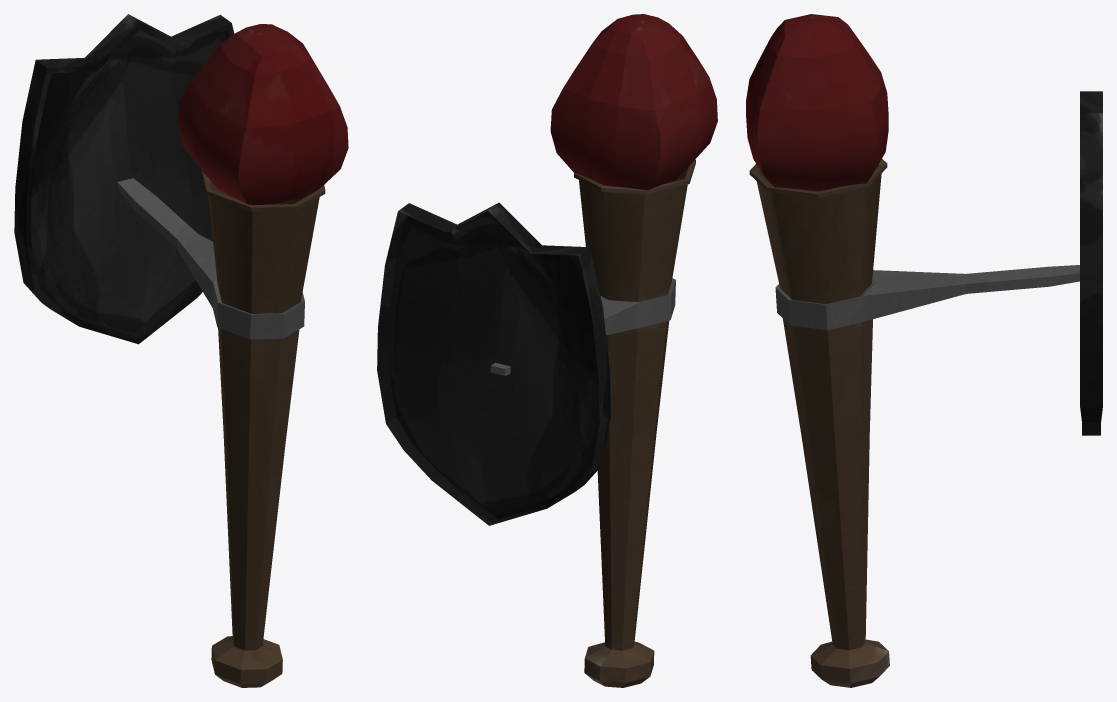
The model's file is Livingroom_lamp.fbx.
The picture shows the model from 3 angles, left to right: view 1: azimuth 30°, elevation 25°; view 2: azimuth 150°, elevation 25°; view 3: azimuth 270°, elevation 25°; orthographic projection. The views are drawn at different scales.
Visible parts, largest first — view 1: pCube99; view 2: pCube99; view 3: pCube99.
Boxes of the visible parts, x1,y1,x2,y2 form: pCube99: [14, 14, 348, 687]; pCube99: [377, 14, 717, 687]; pCube99: [746, 14, 1102, 687].
Size of the model in its own units: 0.0267 by 0.0743 by 0.0363.
